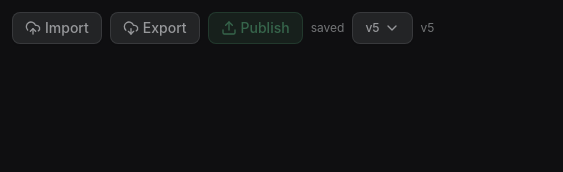
Test case: browser publish button › surfaces rollback failure and keeps the version menu open
Click the button with test id "published-version-menu-trigger".
click(382, 28)  # box [352,12,412,44]
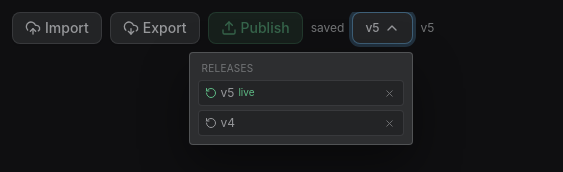
Click the button with test id "rollback-version-4".
click(220, 123)  # box [204,115,235,131]
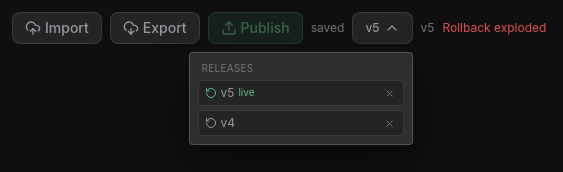
Expected: the element with test id "published-version-menu-content" is shown, [188,52,412,145]
Expected: the text with test id "publish-error-label" reads "Rollback exploded", [442,20,546,35]
